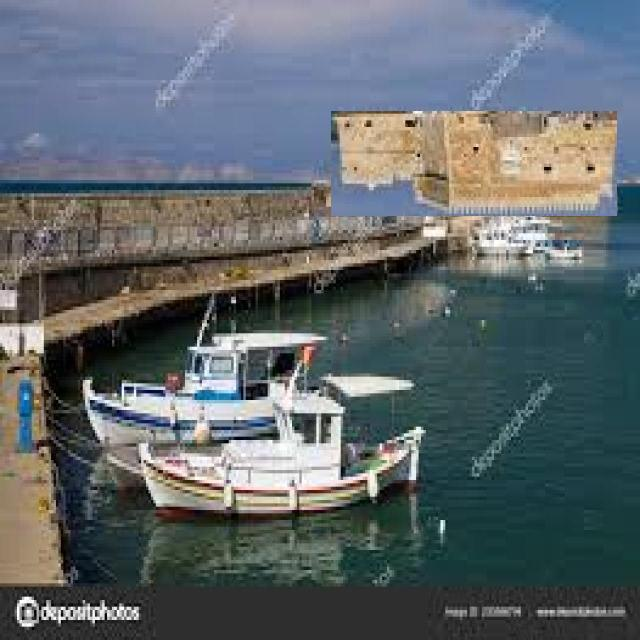Kules: (332, 112, 618, 217)
